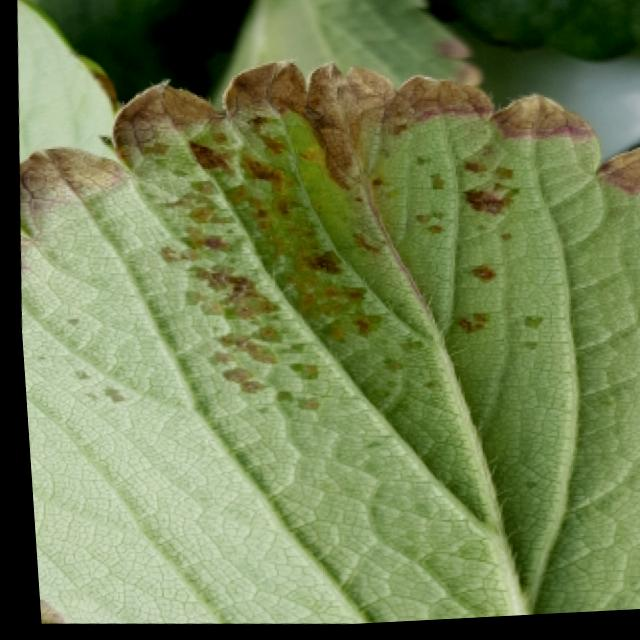Angular Leafspot: (24, 77, 561, 432)
